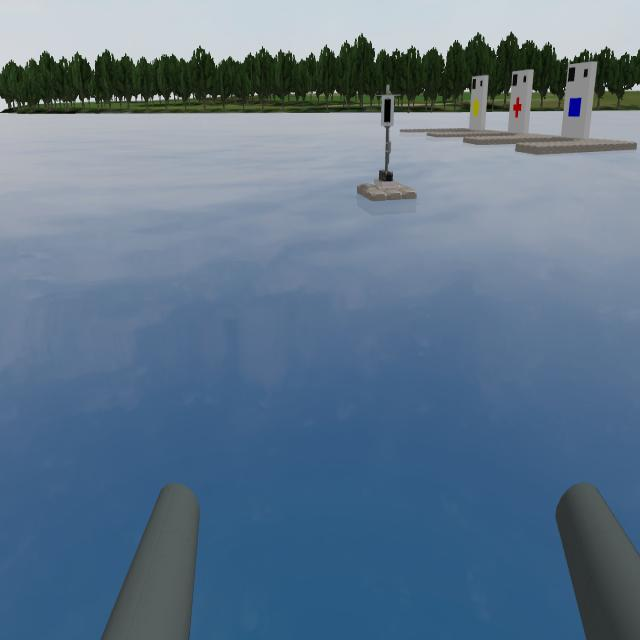black_pole: (375, 77, 399, 138)
